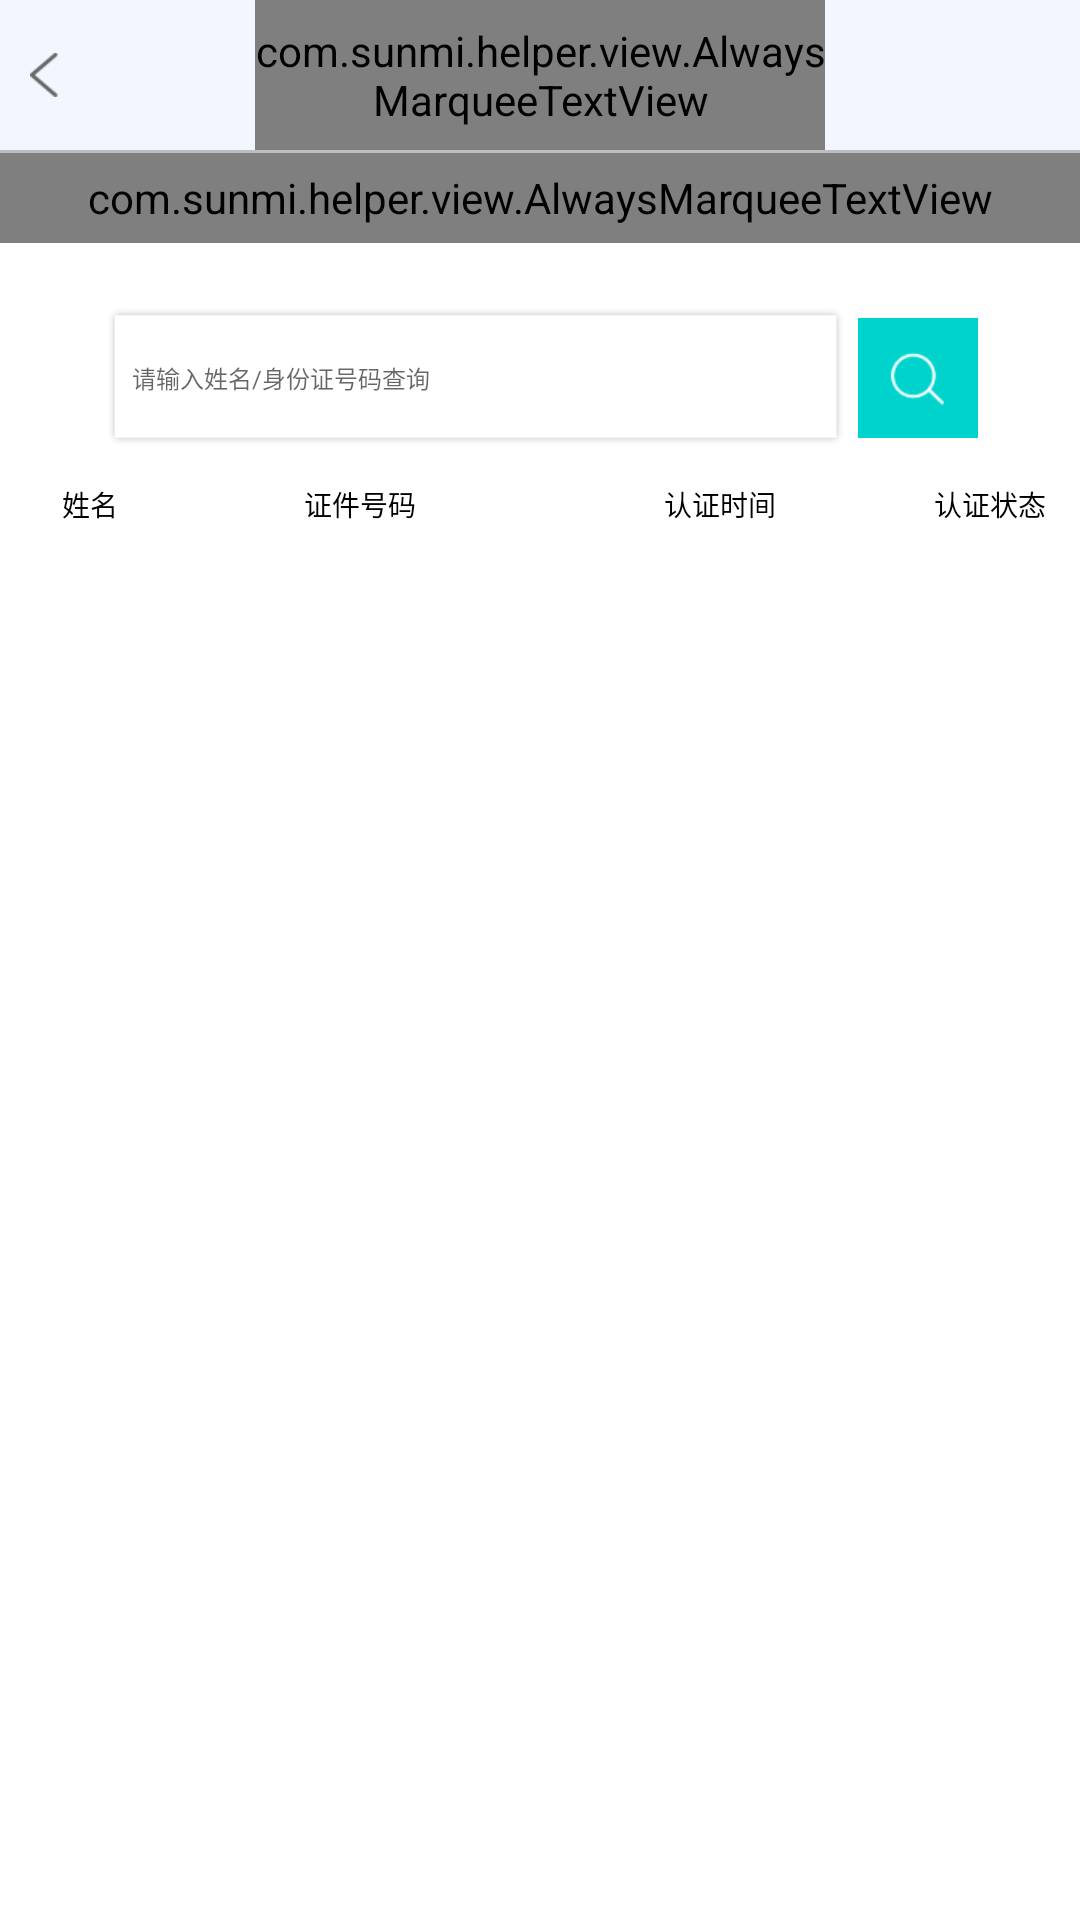

Locate icon controls on the screen. Image size 1080w x 1920h, boxes as (x1=x1, y1=y1, x2=x2, y2=y2).
prosale back: (x1=30, y1=53, x2=58, y2=97)
